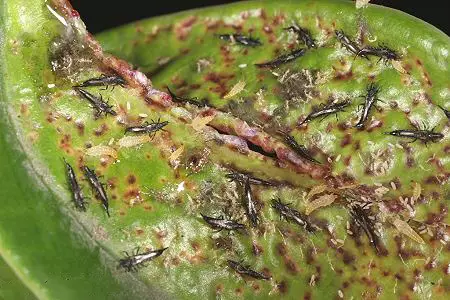thrips: (273, 196, 317, 238), (352, 81, 384, 128), (115, 245, 172, 271), (62, 161, 90, 213), (351, 200, 379, 250), (75, 88, 119, 119), (298, 100, 348, 127), (389, 121, 445, 145), (83, 164, 109, 213), (282, 131, 321, 163), (200, 209, 246, 235), (354, 43, 400, 68), (260, 47, 304, 71), (333, 31, 368, 61), (74, 69, 129, 88), (124, 117, 169, 139), (227, 258, 269, 281), (240, 179, 259, 228), (216, 32, 263, 50), (285, 23, 318, 48), (224, 171, 275, 187)
